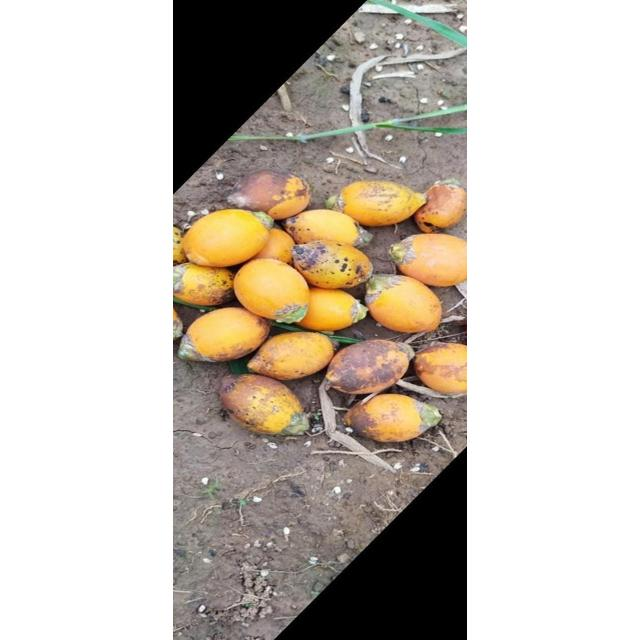good: (218, 374, 310, 436), (232, 259, 310, 323), (324, 340, 414, 394), (180, 308, 270, 362), (342, 394, 442, 442), (364, 274, 442, 334), (247, 332, 336, 381), (334, 180, 428, 226), (226, 170, 312, 220), (389, 234, 467, 286), (291, 241, 374, 289), (282, 210, 370, 250), (292, 288, 366, 332), (174, 262, 236, 306), (412, 344, 466, 394), (413, 182, 467, 232), (251, 228, 295, 264), (173, 226, 187, 266), (173, 302, 183, 341)
